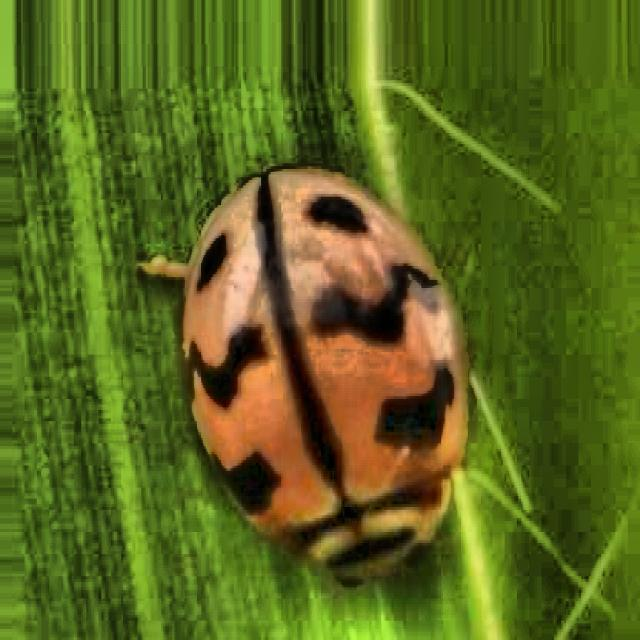Asian-Lady-beetle: (62, 122, 600, 640)
